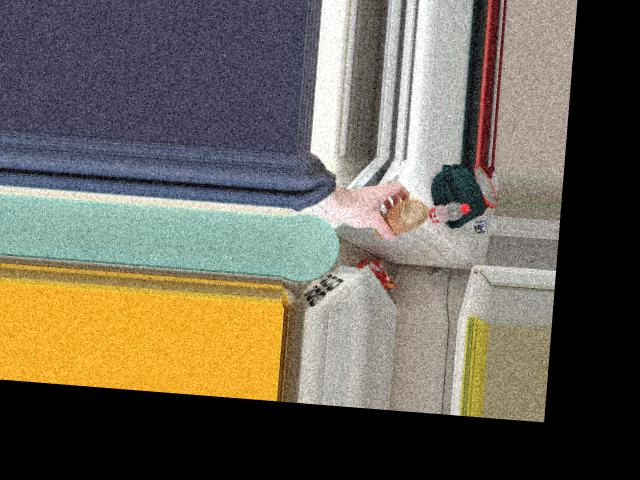sweet_potato: (367, 193, 426, 244)
